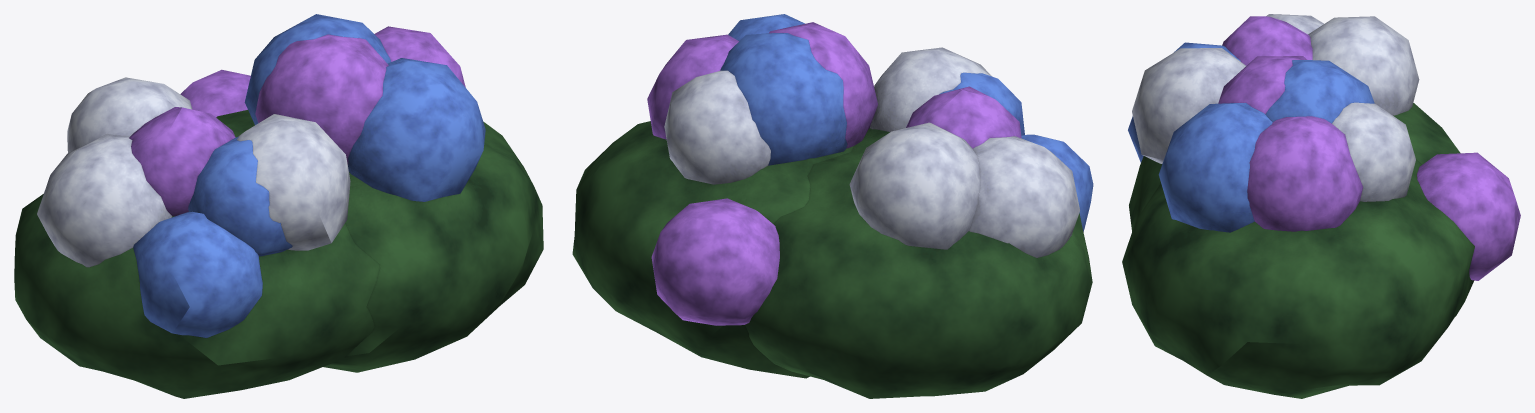
The model's file is hydrangea_bush.fbx.
3 views of the same model, side by side, from view 1: azimuth 30°, elevation 25°; view 2: azimuth 150°, elevation 25°; view 3: azimuth 270°, elevation 25° (orthographic). The views are drawn at different scales.
Parts seen in each view (by area): view 1: hydrangea_bush; view 2: hydrangea_bush; view 3: hydrangea_bush.
Boxes of the visible parts, left/top/right/bottom form: hydrangea_bush: left=14, top=14, right=543, bottom=398; hydrangea_bush: left=572, top=14, right=1093, bottom=398; hydrangea_bush: left=1122, top=14, right=1520, bottom=398.
Size of the model in its own units: 624 by 410 by 477.
Materials: 1 (1 with a texture image).
